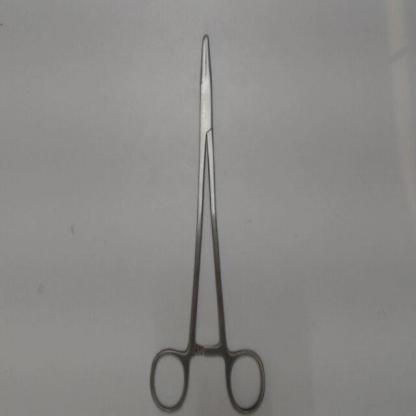8 Mayo Needle Holder: (144, 26, 272, 414)
